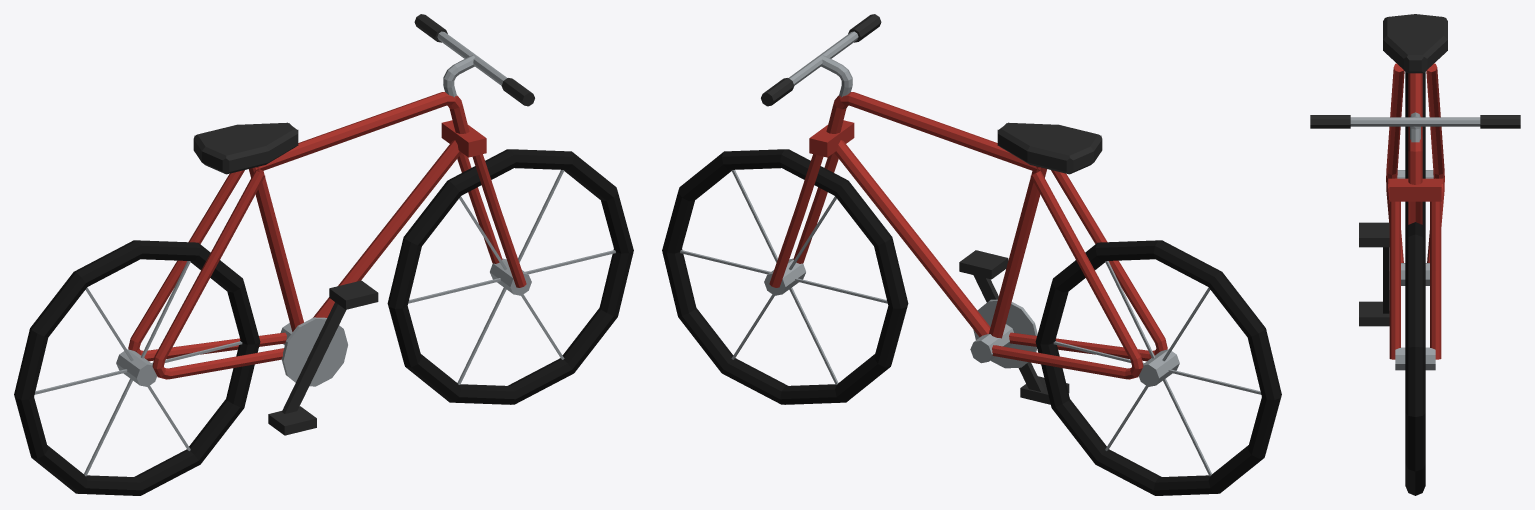
Rendered from velo.glb.
The picture shows the model from 3 angles, left to right: view 1: azimuth 30°, elevation 25°; view 2: azimuth 150°, elevation 25°; view 3: azimuth 270°, elevation 25°; orthographic projection. The views are drawn at different scales.
Visible parts, largest first — view 1: tire_f, tire_r, stays, tubes, saddle, fork, chainring, seat_tube, pedals, crank, hubs, grips (+6 smaller); view 2: tire_f, tire_r, stays, tubes, saddle, fork, seat_tube, hubs, pedals, chainring, grips, crown (+7 smaller); view 3: tire_f, fork, saddle, stays, tubes, pedals, bar, crown, grips, tire_r, hubs, crank.
Boxes of the visible parts, bbox=[...] form: tire_f: bbox=[387, 149, 633, 404]; tire_r: bbox=[14, 240, 260, 495]; stays: bbox=[128, 170, 286, 379]; tubes: bbox=[255, 92, 469, 317]; saddle: bbox=[193, 122, 298, 174]; fork: bbox=[457, 153, 526, 287]; chainring: bbox=[281, 317, 347, 386]; seat_tube: bbox=[249, 166, 303, 331]; pedals: bbox=[268, 280, 378, 435]; crank: bbox=[282, 302, 346, 413]; hubs: bbox=[116, 258, 531, 386]; grips: bbox=[414, 14, 534, 106]; tire_f: bbox=[662, 149, 908, 404]; tire_r: bbox=[1035, 240, 1281, 495]; stays: bbox=[992, 170, 1167, 379]; tubes: bbox=[826, 92, 1040, 336]; saddle: bbox=[997, 122, 1102, 174]; fork: bbox=[769, 153, 838, 287]; seat_tube: bbox=[989, 166, 1046, 338]; hubs: bbox=[764, 258, 1179, 386]; pedals: bbox=[959, 250, 1069, 404]; chainring: bbox=[973, 299, 1037, 368]; grips: bbox=[761, 14, 881, 106]; crown: bbox=[809, 120, 854, 157]; tire_f: bbox=[1405, 222, 1425, 495]; fork: bbox=[1389, 201, 1441, 359]; saddle: bbox=[1383, 14, 1447, 73]; stays: bbox=[1386, 63, 1444, 262]; tubes: bbox=[1408, 73, 1422, 224]; pedals: bbox=[1359, 222, 1389, 326]; bar: bbox=[1350, 117, 1480, 126]; crown: bbox=[1389, 178, 1441, 201]; grips: bbox=[1310, 115, 1520, 128]; tire_r: bbox=[1405, 72, 1425, 231]; hubs: bbox=[1395, 170, 1435, 370]; crank: bbox=[1383, 247, 1389, 313].
Bounding box in the file's own units: 1.72 × 0.958 × 0.52.
Materials: 4 (4 with a texture image).
